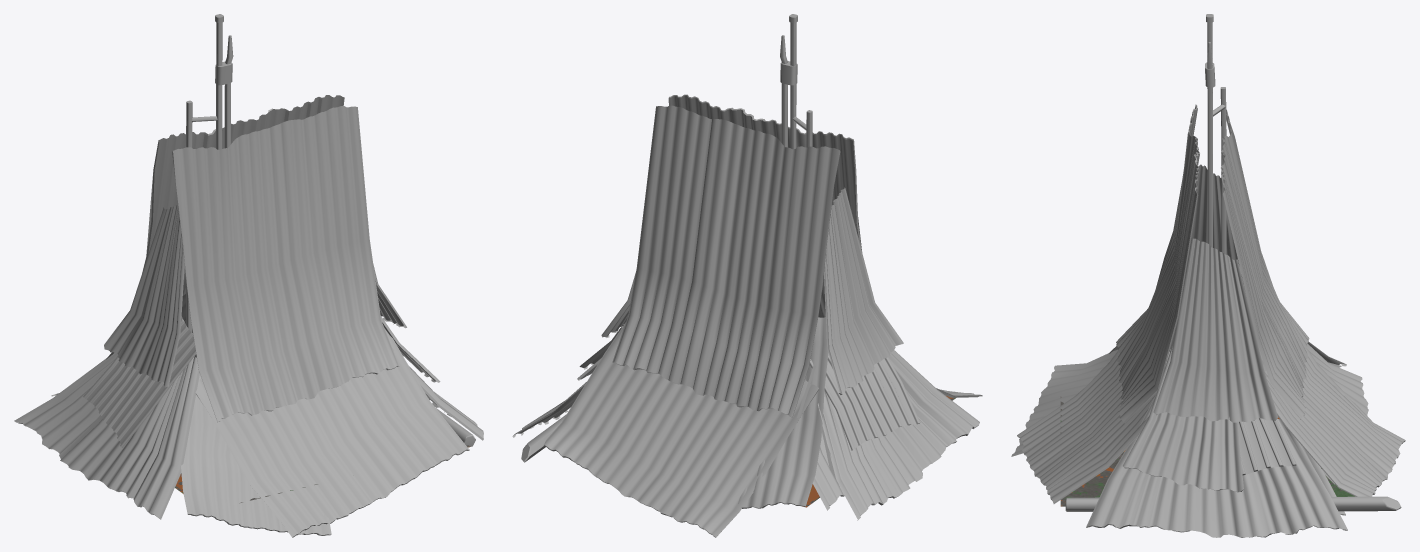
The model's file is SM_RoofTopHigh_02.fbx.
3 renders of one model, left to right at view 1: azimuth 30°, elevation 25°; view 2: azimuth 150°, elevation 25°; view 3: azimuth 270°, elevation 25°, orthographic. The views are drawn at different scales.
Visible parts, largest first — view 1: Rooftophigh2; view 2: Rooftophigh2; view 3: Rooftophigh2.
Part boxes in pixels (x1,y1,x2,y2): Rooftophigh2: (14,14,483,537); Rooftophigh2: (512,14,982,537); Rooftophigh2: (1011,14,1405,537).
Size of the model in its own units: 659 by 811 by 664.
